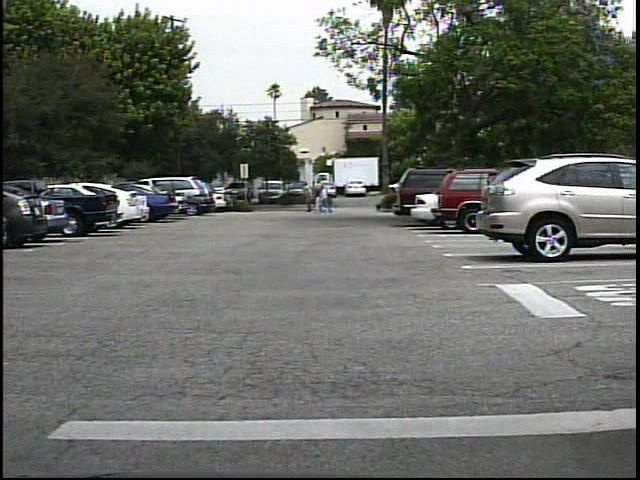person: (318, 185, 335, 215), (301, 185, 317, 215), (314, 186, 327, 216)
